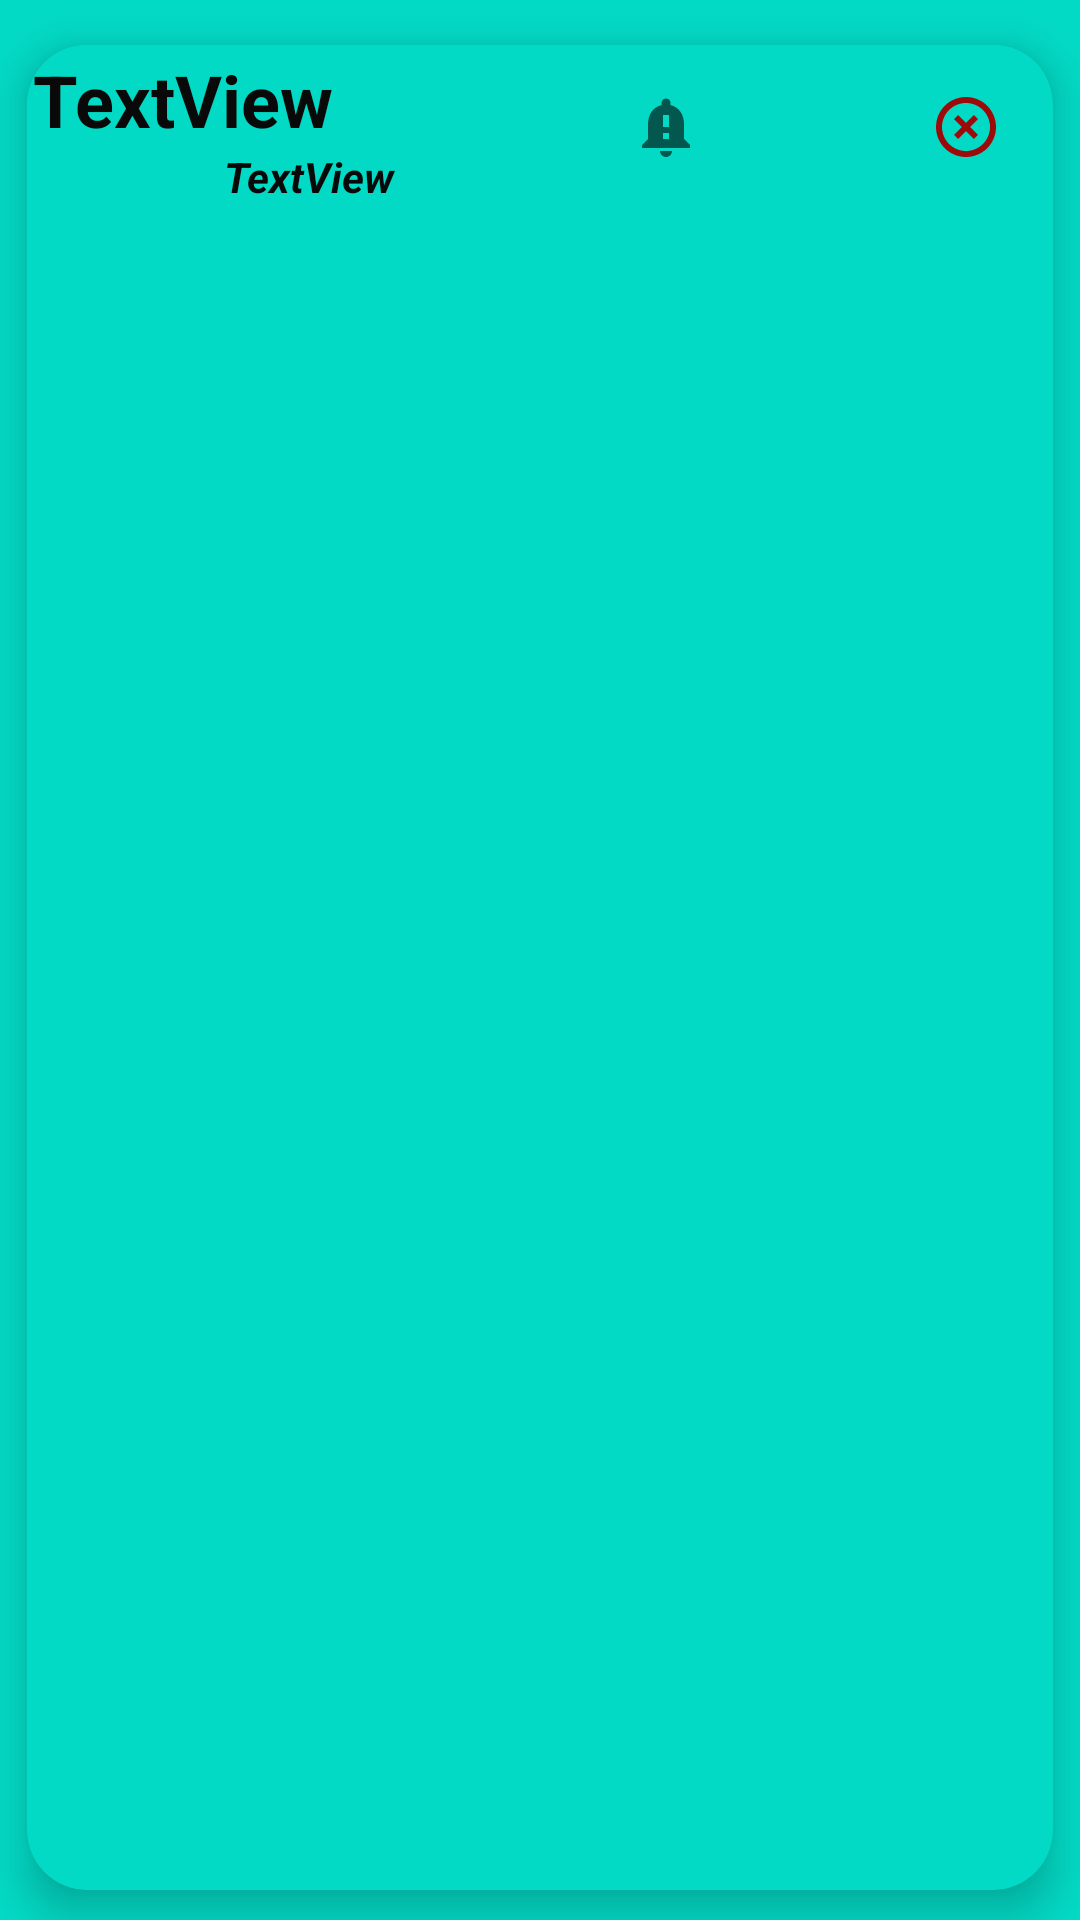

Icons on this 1080*1920 Android screen, each with the point to tap as point (x, y):
highlight off: point (966, 127)
notification important: point (666, 127)
